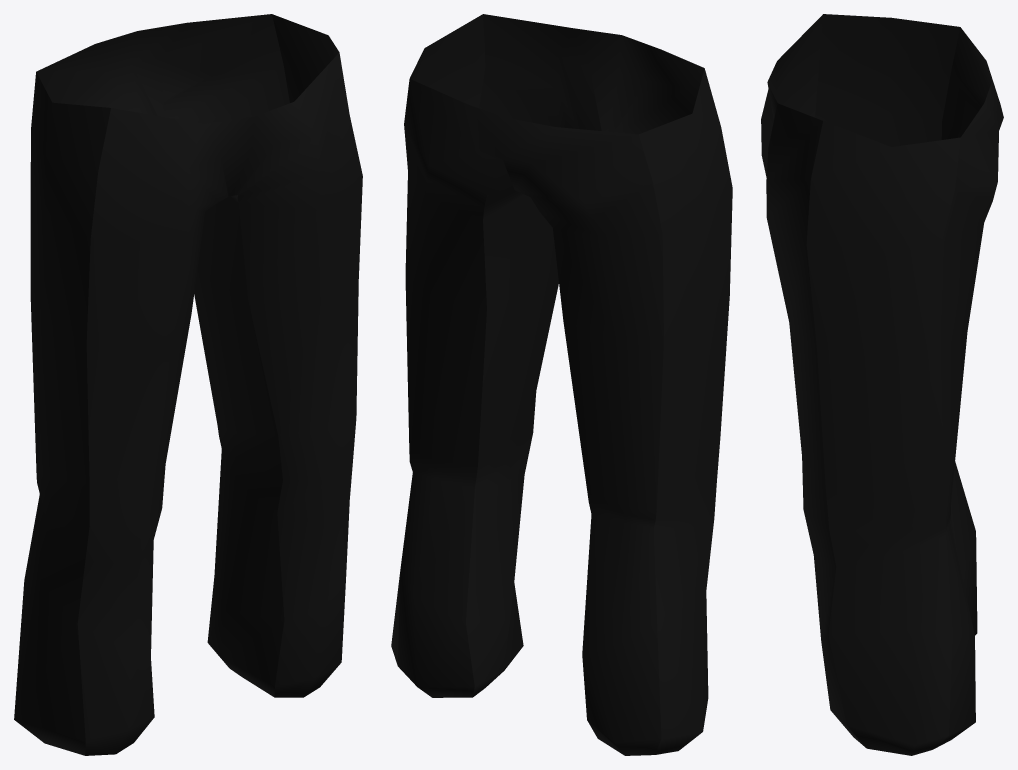
Rendered from ninjaPants.fbx.
The picture shows the model from 3 angles, left to right: view 1: azimuth 30°, elevation 25°; view 2: azimuth 150°, elevation 25°; view 3: azimuth 270°, elevation 25°; orthographic projection. The views are drawn at different scales.
Parts seen in each view (by area): view 1: ninjaPnts; view 2: ninjaPnts; view 3: ninjaPnts.
Boxes of the visible parts, box(x1,y1,x2,y2) form: ninjaPnts: box(14, 14, 362, 755); ninjaPnts: box(391, 14, 732, 755); ninjaPnts: box(761, 14, 1003, 755).
Size of the model in its own units: 41.75 by 82.09 by 28.32.
1 material, 1 textured.
